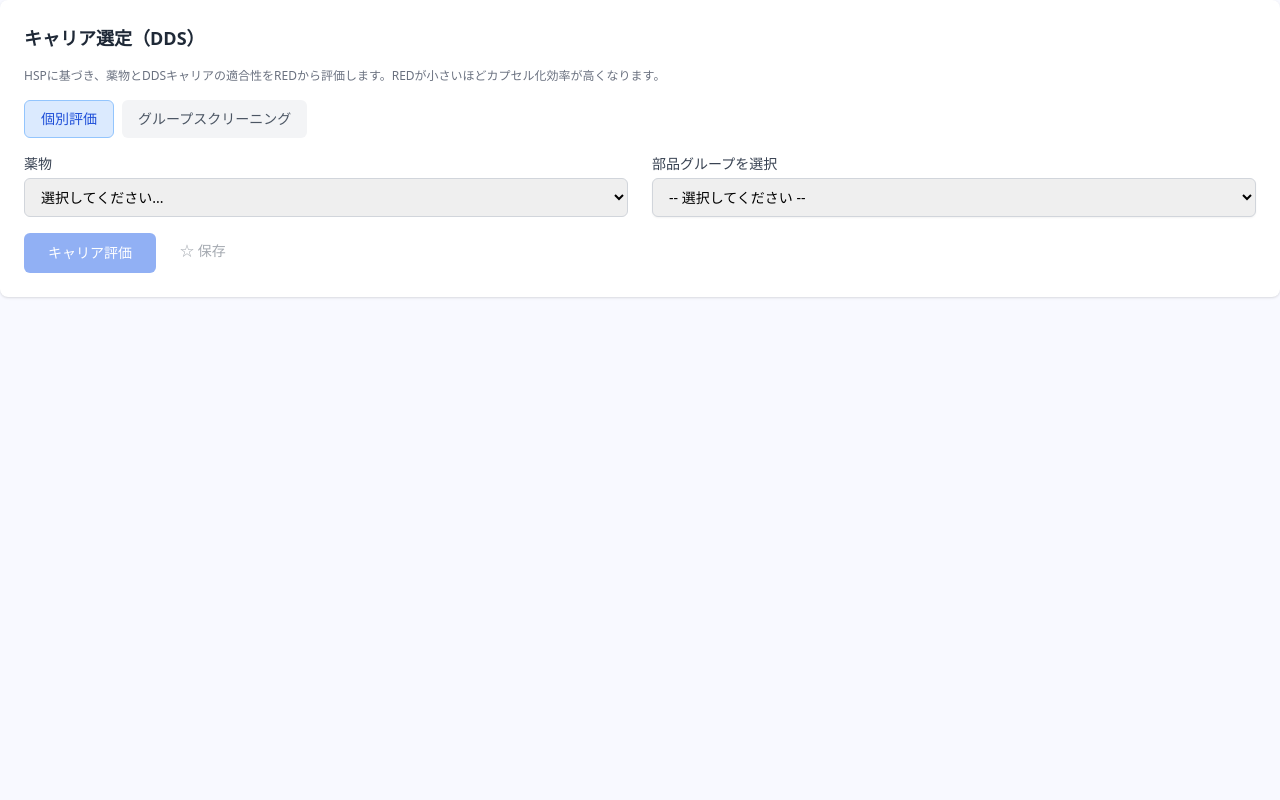
Test: CarrierSelectionView › スクリーニングモードで評価実行後に結果が表示される
スクリーニングモードに切替
Click the button "グループスクリーニング" at (215, 119), box [122, 100, 307, 138]
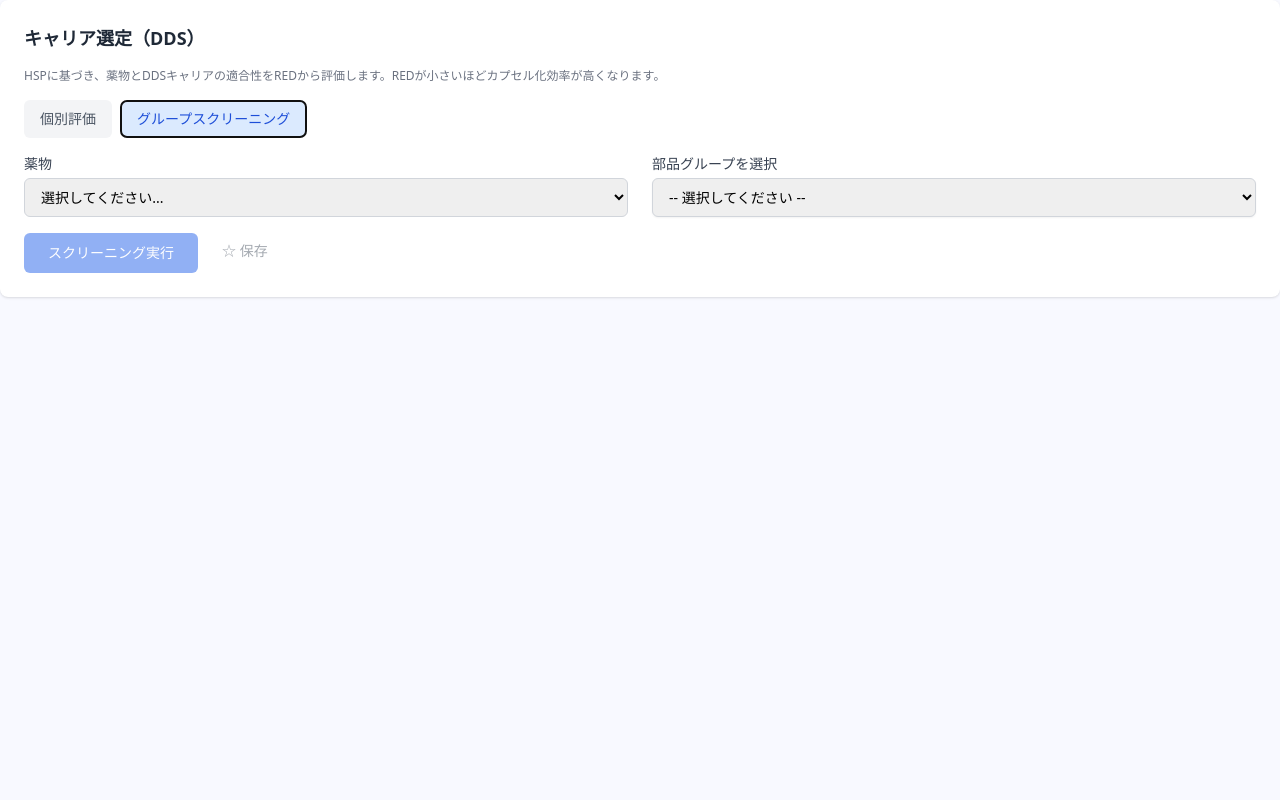
Select "パクリタキセル (Paclitaxel) — 抗がん剤" in the 1st dropdown at (326, 198), box [24, 178, 628, 217]
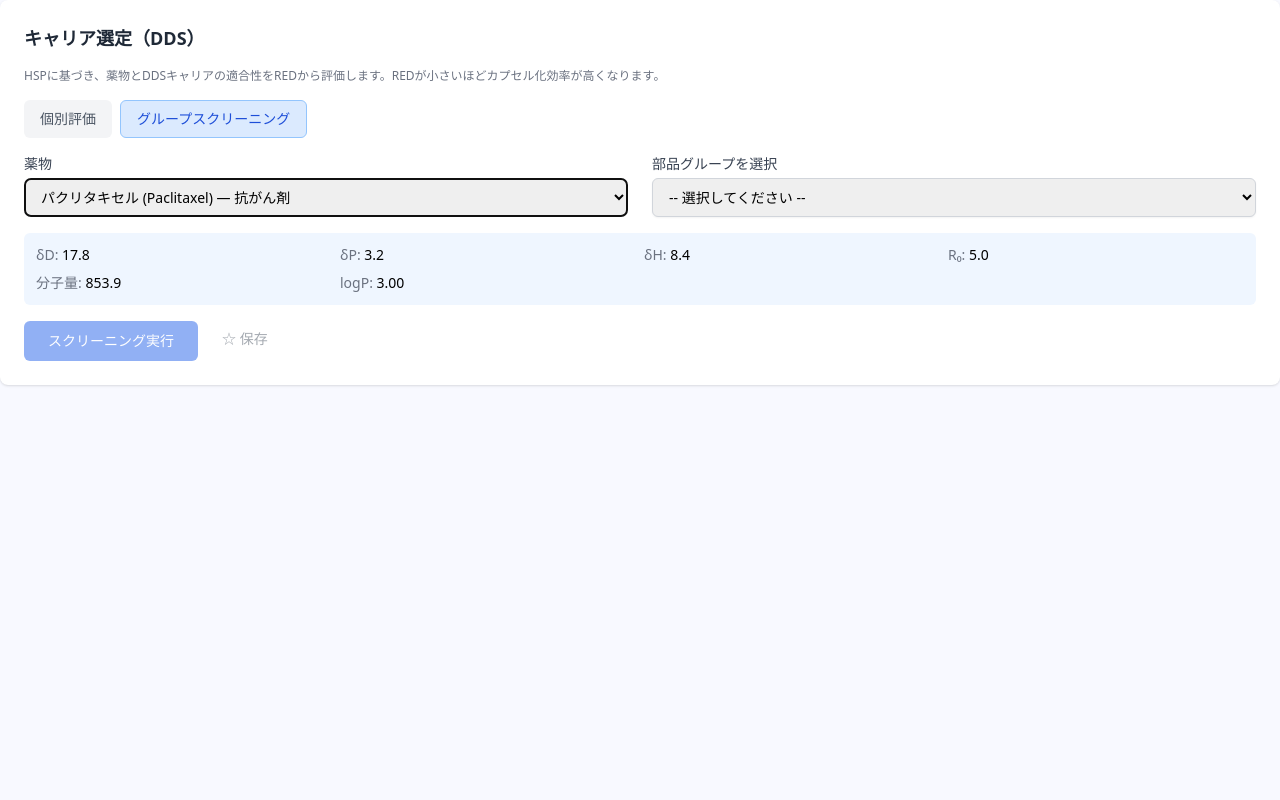
PartsGroupSelectorは最初のcomboboxの次にあるはず
Select "キャリアグループ (2部品)" in the dropdown labelled "部品グループを選択" at (954, 198), box [652, 178, 1256, 217]
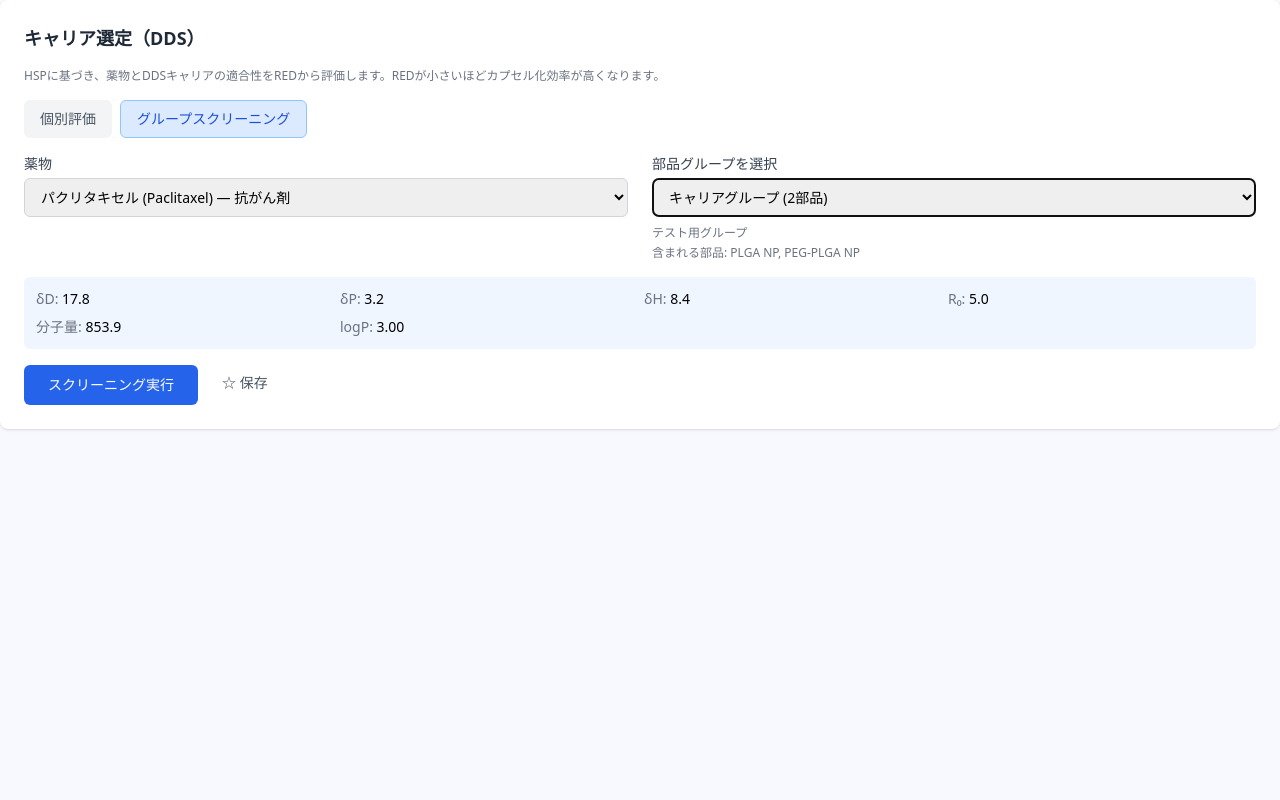
Click the button "スクリーニング実行" at (111, 385), box [24, 365, 198, 405]
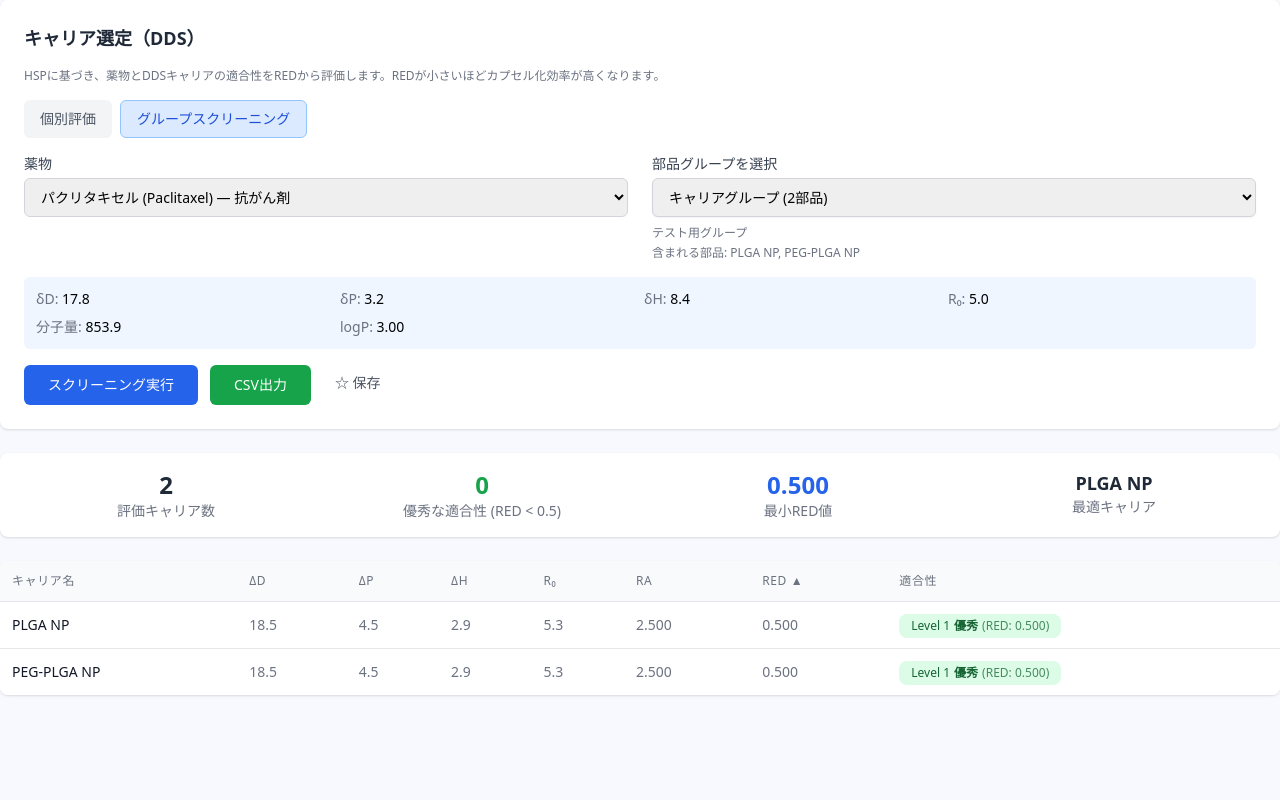
Expected: the text "最適キャリア" is shown, [1072, 497, 1156, 516]
